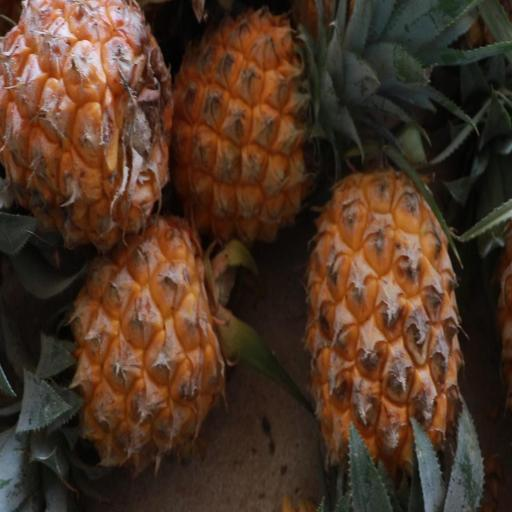Pineapple - v8 v1: (298, 162, 477, 512), (53, 211, 241, 485), (157, 0, 340, 256), (0, 0, 177, 263)
